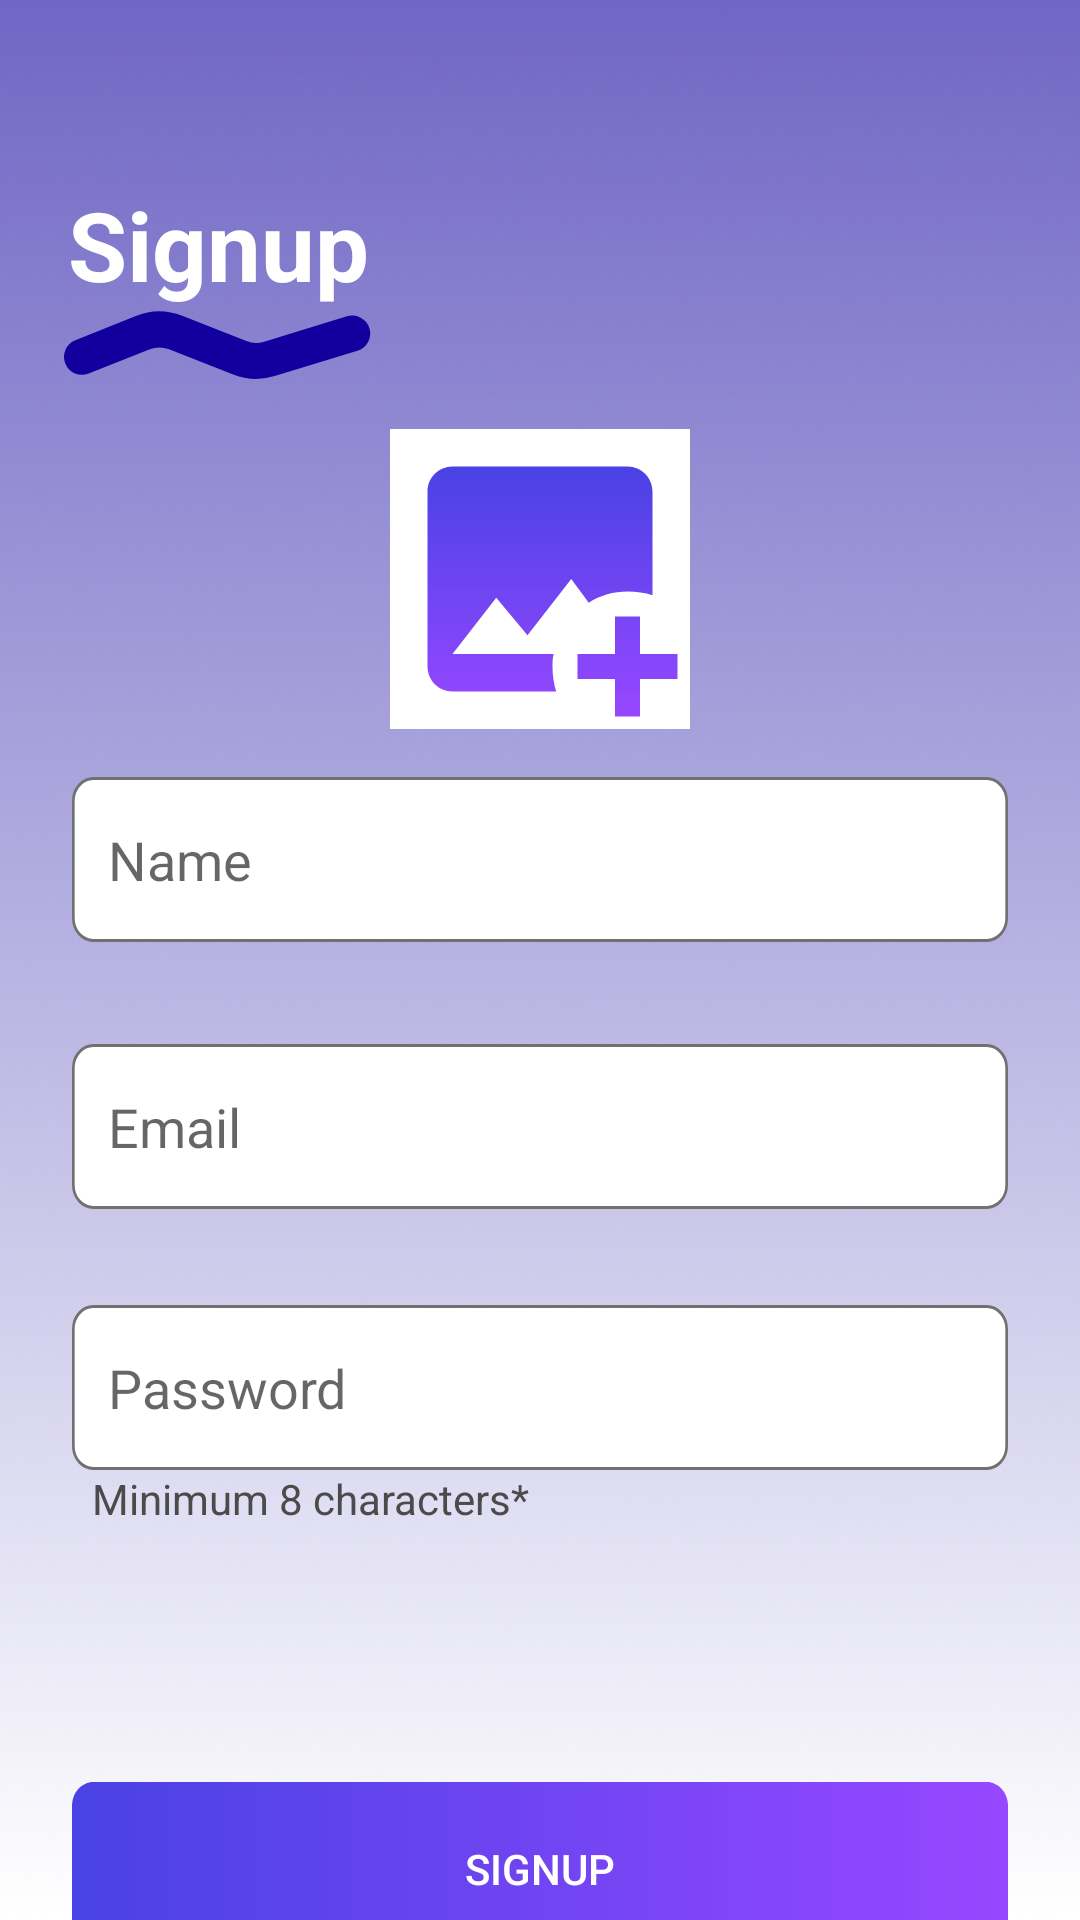

Screen size 1080 × 1920. Icon name, then its box in pixels as bbox=(x1, y1, x2, y2):
add: bbox=(390, 429, 690, 729)
